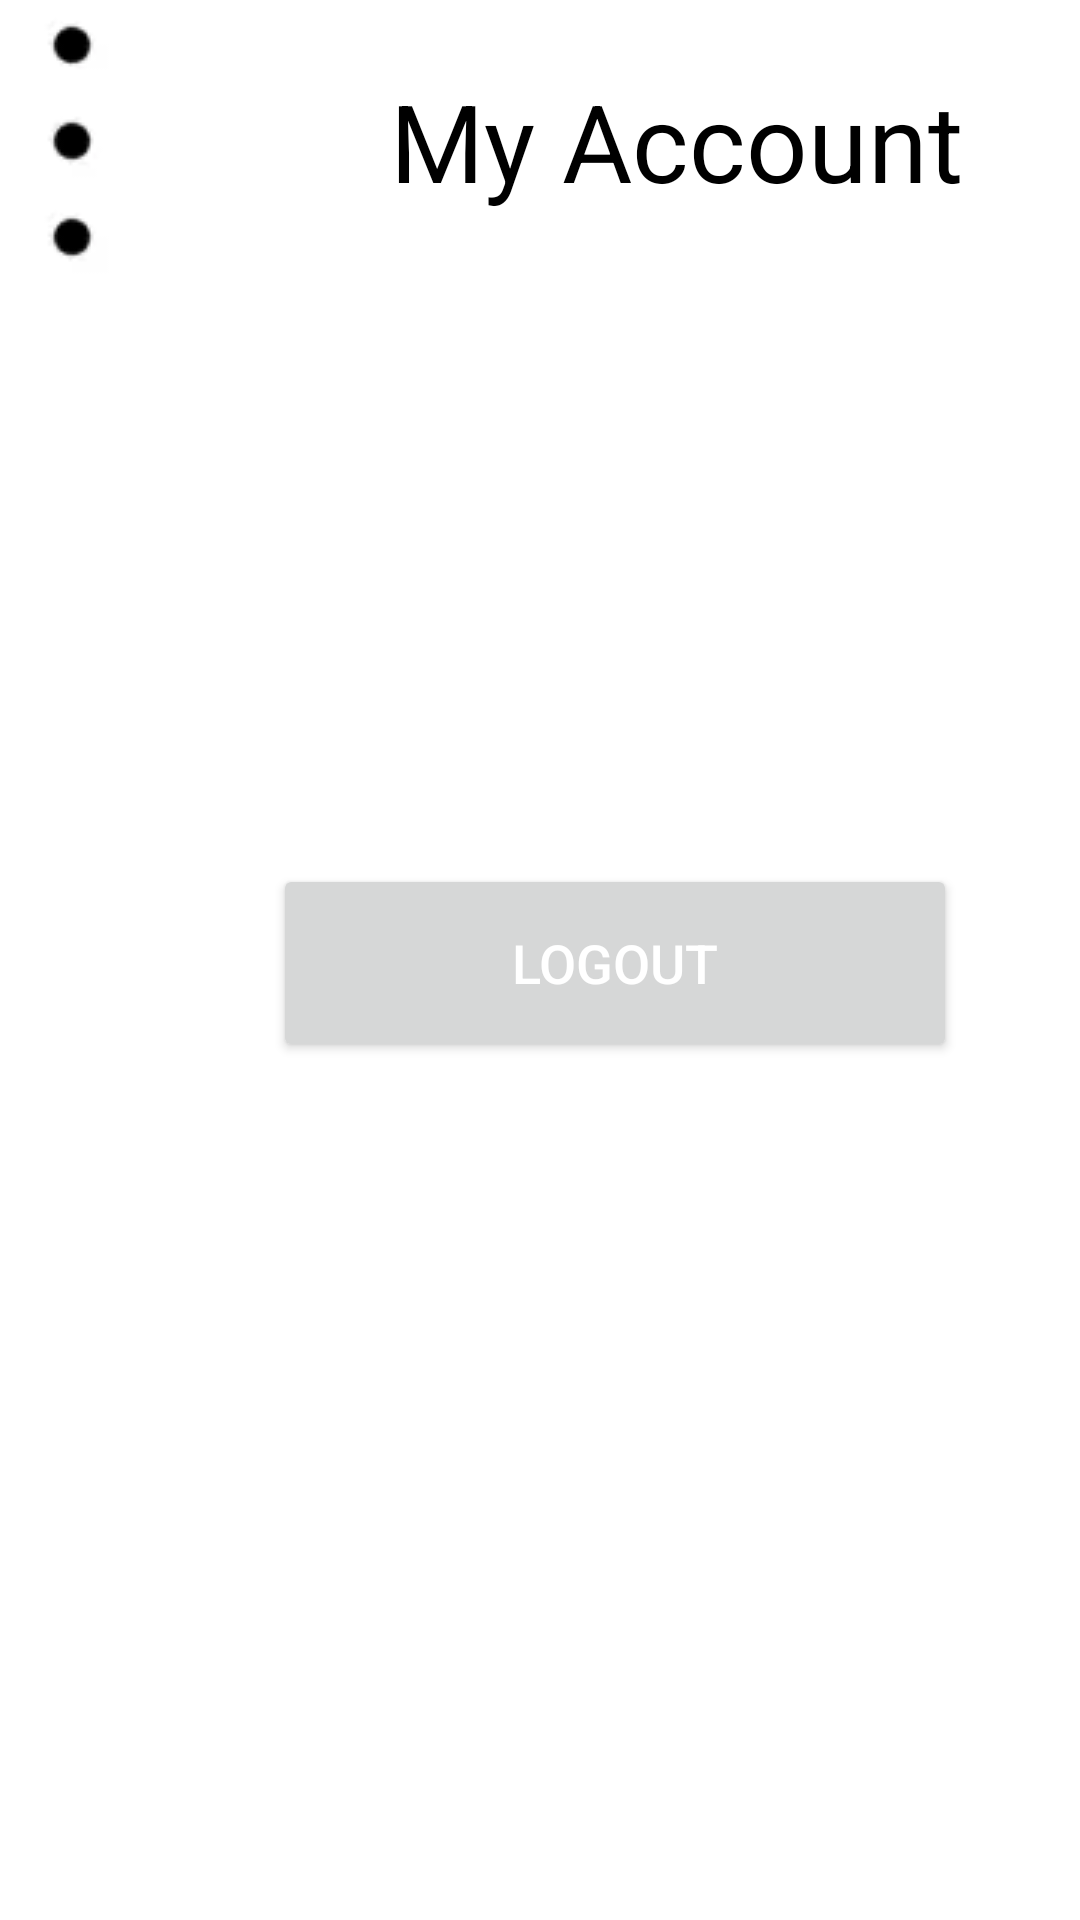

Screen size 1080x1920. Icon name, then its center in pixels as point (x, y):
dot menu: point (72, 141)
